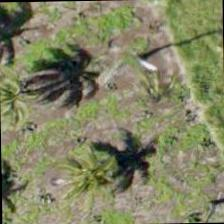Kelapa_Sawit: (39, 138, 132, 223), (0, 49, 51, 141)
